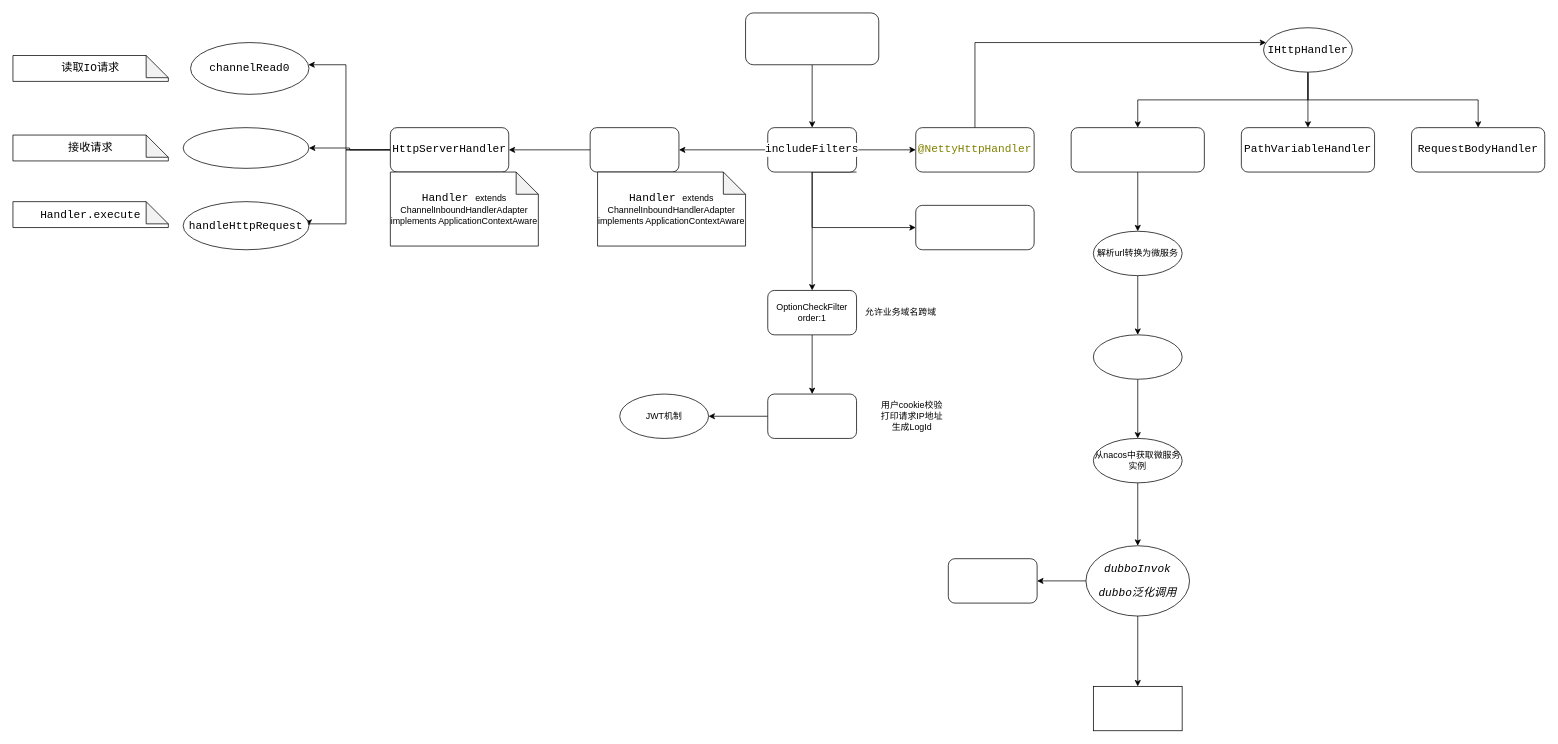
Some shapes in this 1558 by 744 pixel diagram are drawn without their labels. Here are the shapes that lost their labels. From the top down, the centre of each, then its label:
At point (812, 38): "GateWayApplication".
At point (245, 147): "onReceivedRequest".
At point (634, 149): "iohandler".
At point (1137, 149): "EntryRemoteHandler".
At point (974, 227): "@EnableDubbo".
At point (1137, 356): "获取 ParameterMap".
At point (812, 415): "AuthCheckFilter order:2".
At point (992, 580): "异常处理 匹配异常类型 返回统一格式".
At point (1137, 708): "获取返回结果".
